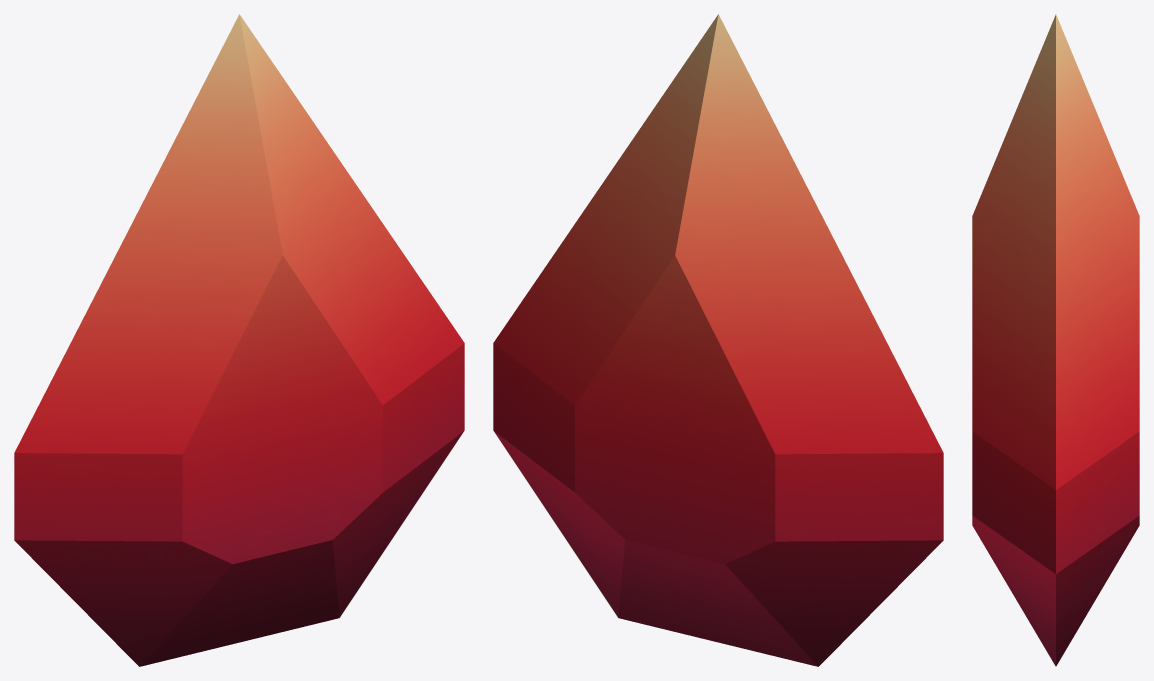
File: gem8.fbx
3 renders of one model, left to right at view 1: azimuth 30°, elevation 25°; view 2: azimuth 150°, elevation 25°; view 3: azimuth 270°, elevation 25°, orthographic. The views are drawn at different scales.
Parts seen in each view (by area): view 1: Gem8; view 2: Gem8; view 3: Gem8.
Part boxes in pixels (x1=…): Gem8: x1=14, y1=14, x2=464, y2=666; Gem8: x1=493, y1=14, x2=943, y2=666; Gem8: x1=972, y1=14, x2=1139, y2=666.
Bounding box in the file's own units: 0.75 × 1 × 0.25.
